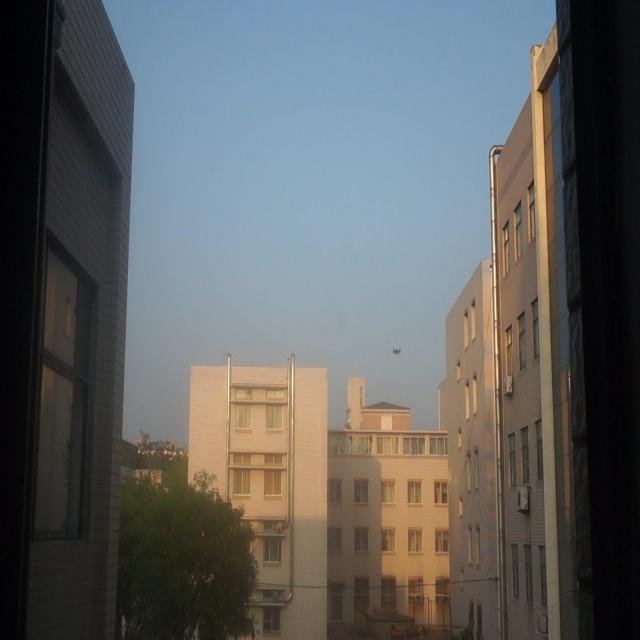UAV: (392, 348, 402, 355)
